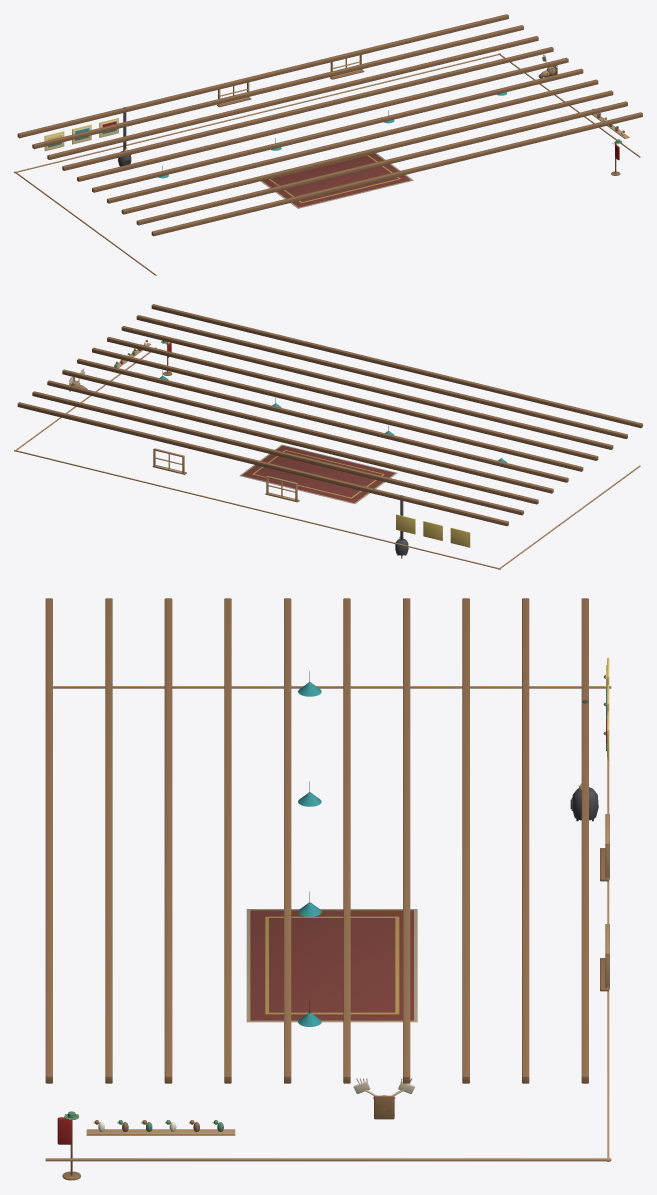
The model's file is clubdecor.glb.
The picture shows the model from 3 angles, top to bottom: view 1: azimuth 30°, elevation 25°; view 2: azimuth 150°, elevation 25°; view 3: azimuth 270°, elevation 25°; orthographic projection. The views are drawn at different scales.
Parts seen in each view (by area): view 1: beam7, beam5, beam6, beam9, beam1, beam8, beam3, beam4, beam2, beam0, rug_in, rail_back (+1 smaller); view 2: beam7, beam9, beam3, beam4, beam5, beam1, beam2, beam6, beam8, beam0, rug_in, rug (+2 smaller); view 3: rug_in, beam7, rug, beam6, beam8, beam1, beam2, beam3, beam4, beam5, beam9, beam0 (+6 smaller).
Boxes of the visible parts, x1,y1,x2,y2 form: beam7: (121, 90, 613, 214); beam5: (92, 68, 583, 192); beam6: (107, 79, 598, 203); beam9: (151, 112, 642, 236); beam1: (32, 25, 523, 149); beam8: (136, 101, 627, 225); beam3: (62, 47, 553, 170); beam4: (77, 57, 568, 181); beam2: (47, 36, 538, 159); beam0: (17, 14, 508, 138); rug_in: (271, 155, 398, 201); rail_back: (14, 53, 500, 173); beam7: (121, 326, 613, 449); beam9: (151, 304, 642, 427); beam3: (62, 369, 553, 493); beam4: (77, 358, 568, 482); beam5: (92, 347, 583, 471); beam1: (32, 391, 523, 515); beam2: (47, 380, 538, 504); beam6: (107, 337, 598, 460); beam8: (136, 315, 627, 438); beam0: (17, 402, 508, 526); rug_in: (255, 451, 382, 497); rug: (242, 445, 394, 502); rug_in: (269, 918, 395, 1012); beam7: (164, 598, 172, 1083); rug: (250, 910, 413, 1020); beam6: (224, 598, 231, 1083); beam8: (105, 598, 112, 1083); beam1: (522, 598, 529, 1083); beam2: (462, 598, 469, 1083); beam3: (403, 598, 410, 1083); beam4: (343, 598, 350, 1083); beam5: (284, 598, 291, 1083); beam9: (45, 598, 52, 1083); beam0: (581, 598, 588, 1083).
Bounding box in the file's own units: 30.4 × 3.61 × 15.2.
